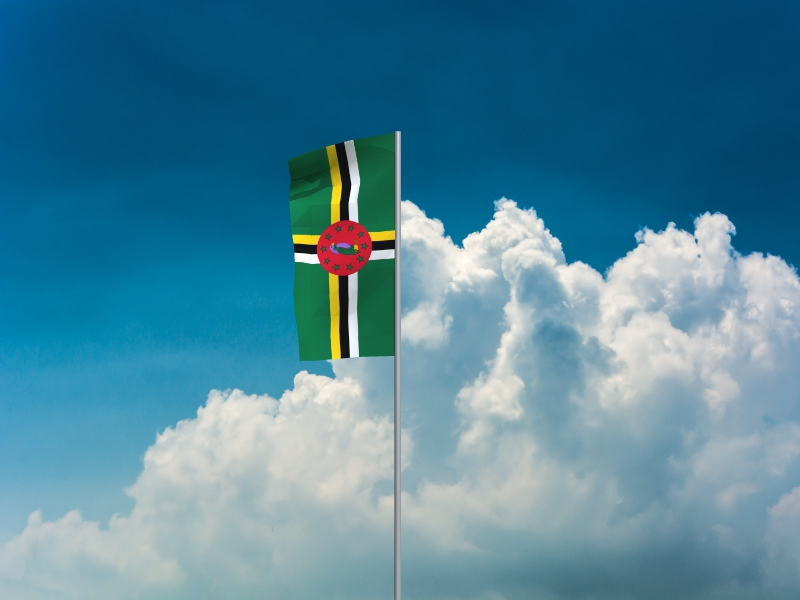dm: (287, 133, 396, 363)
